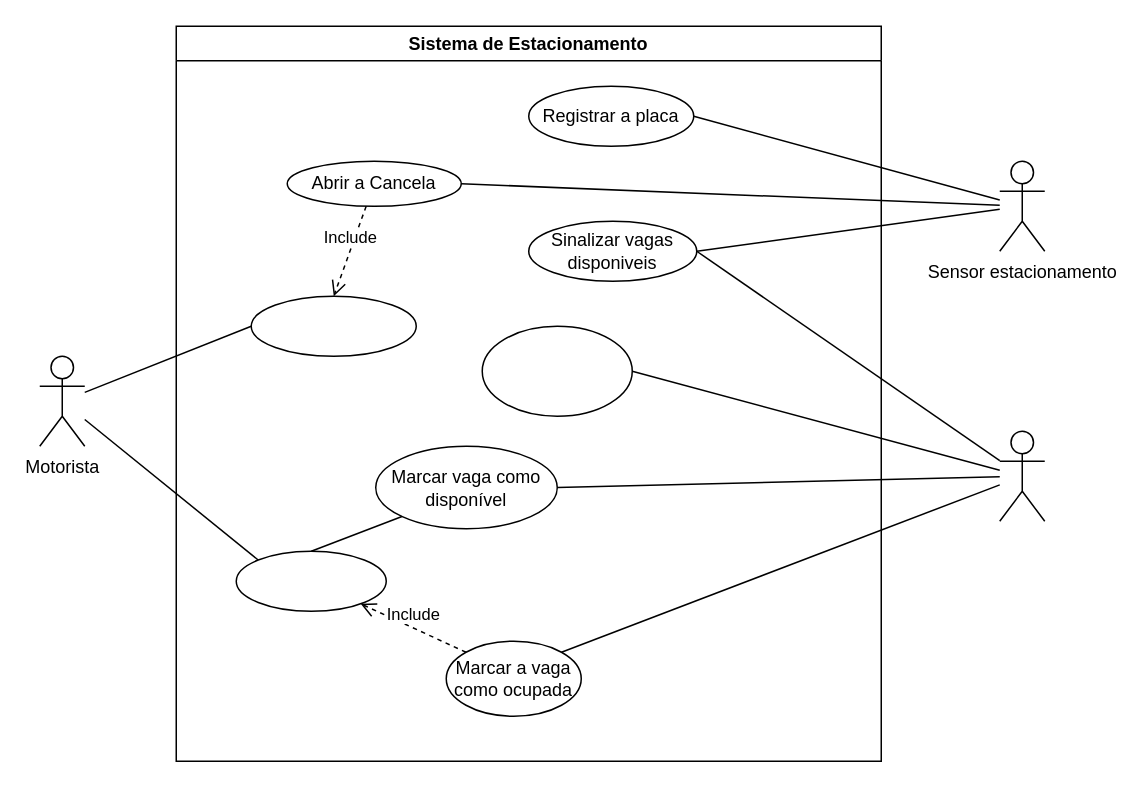
The diagram is 1143 pixels wide and 788 high, and some of its shapes have lost their labels. The centre of each missing label's shape, as x and y in pixels:
"Efetuar o pagamento" belongs at pixel 333 325.
"Estacionar o Carro" belongs at pixel 310 580.
"Sensor das Vagas" belongs at pixel 1021 475.
"Sinalizar a direção da vaga Disponível" belongs at pixel 556 370.
